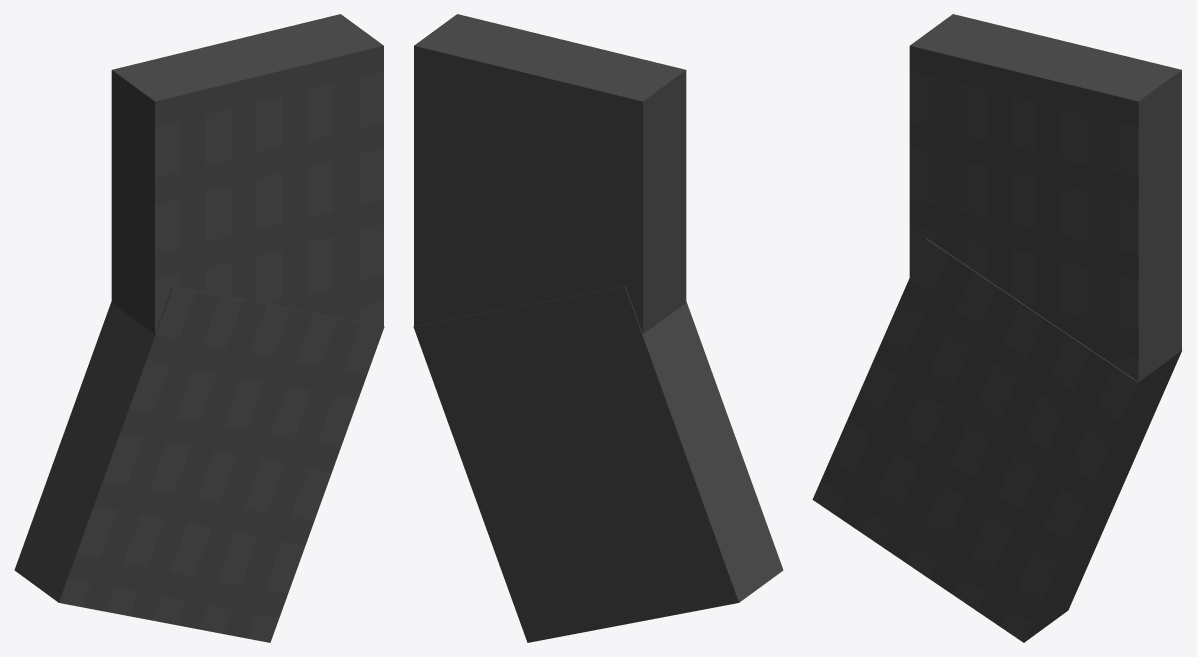
File: CBR-27 Magazine.obj
3 views of the same model, side by side, from view 1: azimuth 30°, elevation 25°; view 2: azimuth 150°, elevation 25°; view 3: azimuth 330°, elevation 25° (orthographic).
Visible parts, largest first — view 1: cube; view 2: cube; view 3: cube.
Part boxes in pixels (x1,y1,x2,y2): cube: (14,14,384,642); cube: (413,14,783,642); cube: (812,14,1182,642).
Size of the model in its own units: 0.2027 by 0.3384 by 0.0479.
1 material, 1 textured.
